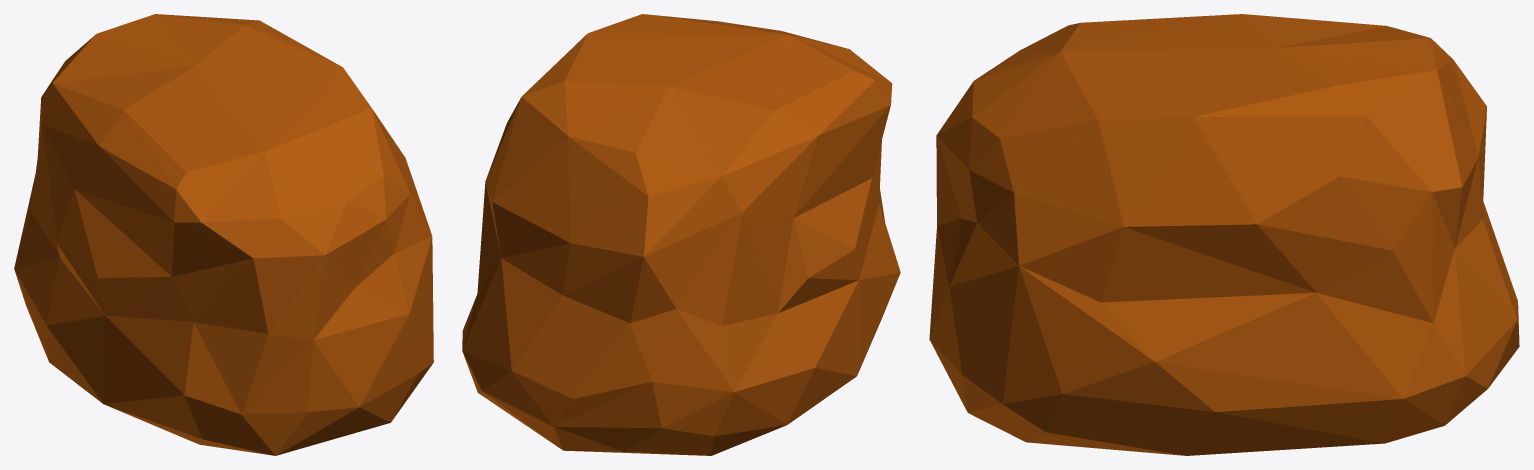
File: Boulder_1.fbx
The picture shows the model from 3 angles, left to right: view 1: azimuth 30°, elevation 25°; view 2: azimuth 150°, elevation 25°; view 3: azimuth 270°, elevation 25°; orthographic projection. The views are drawn at different scales.
Parts seen in each view (by area): view 1: Boulder_1; view 2: Boulder_1; view 3: Boulder_1.
Boxes of the visible parts, bbox=[...] form: Boulder_1: bbox=[14, 14, 433, 455]; Boulder_1: bbox=[462, 14, 900, 455]; Boulder_1: bbox=[929, 14, 1519, 455].
Size of the model in its own units: 224 by 206 by 318.
